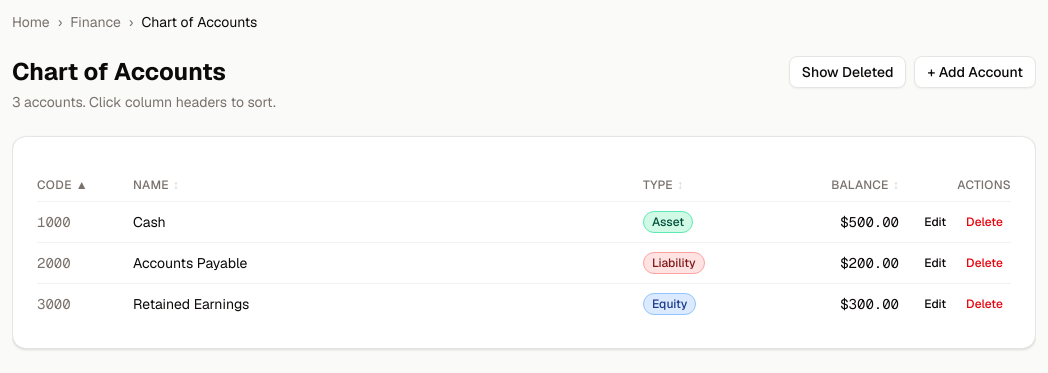
Scenario: ChartOfAccountsPage › enters edit mode and cancels
Check: the link "Cash" is shown, box [133,213,166,231]
// Click Edit on first row
Click the button "Edit" in the row of "1000". click: [935, 222]
box: [916,210,954,234]
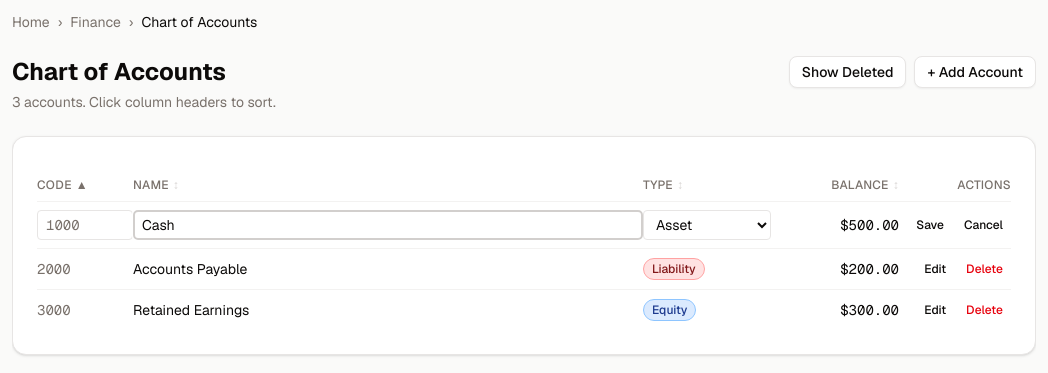
Check: the button "Save" is shown, box [908,213,952,237]
Check: the button "Cancel" is shown
Click the button "Cancel". click: [983, 225]
box: [956,213,1011,237]
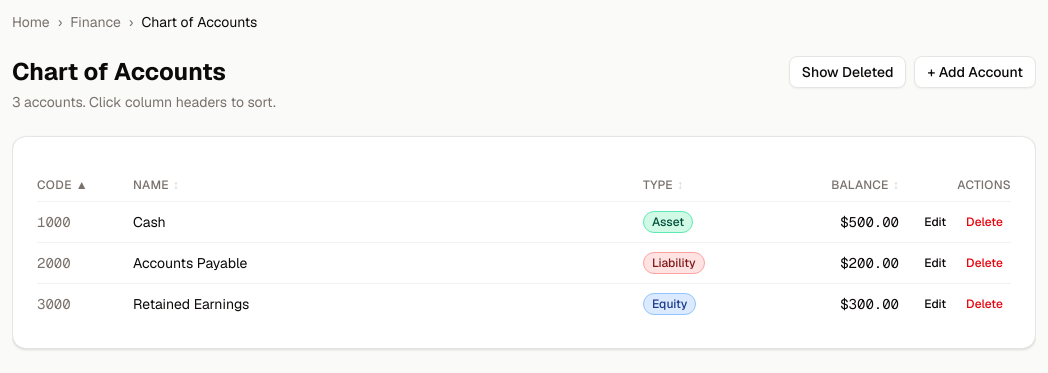
Check: the button "Save" is gone
